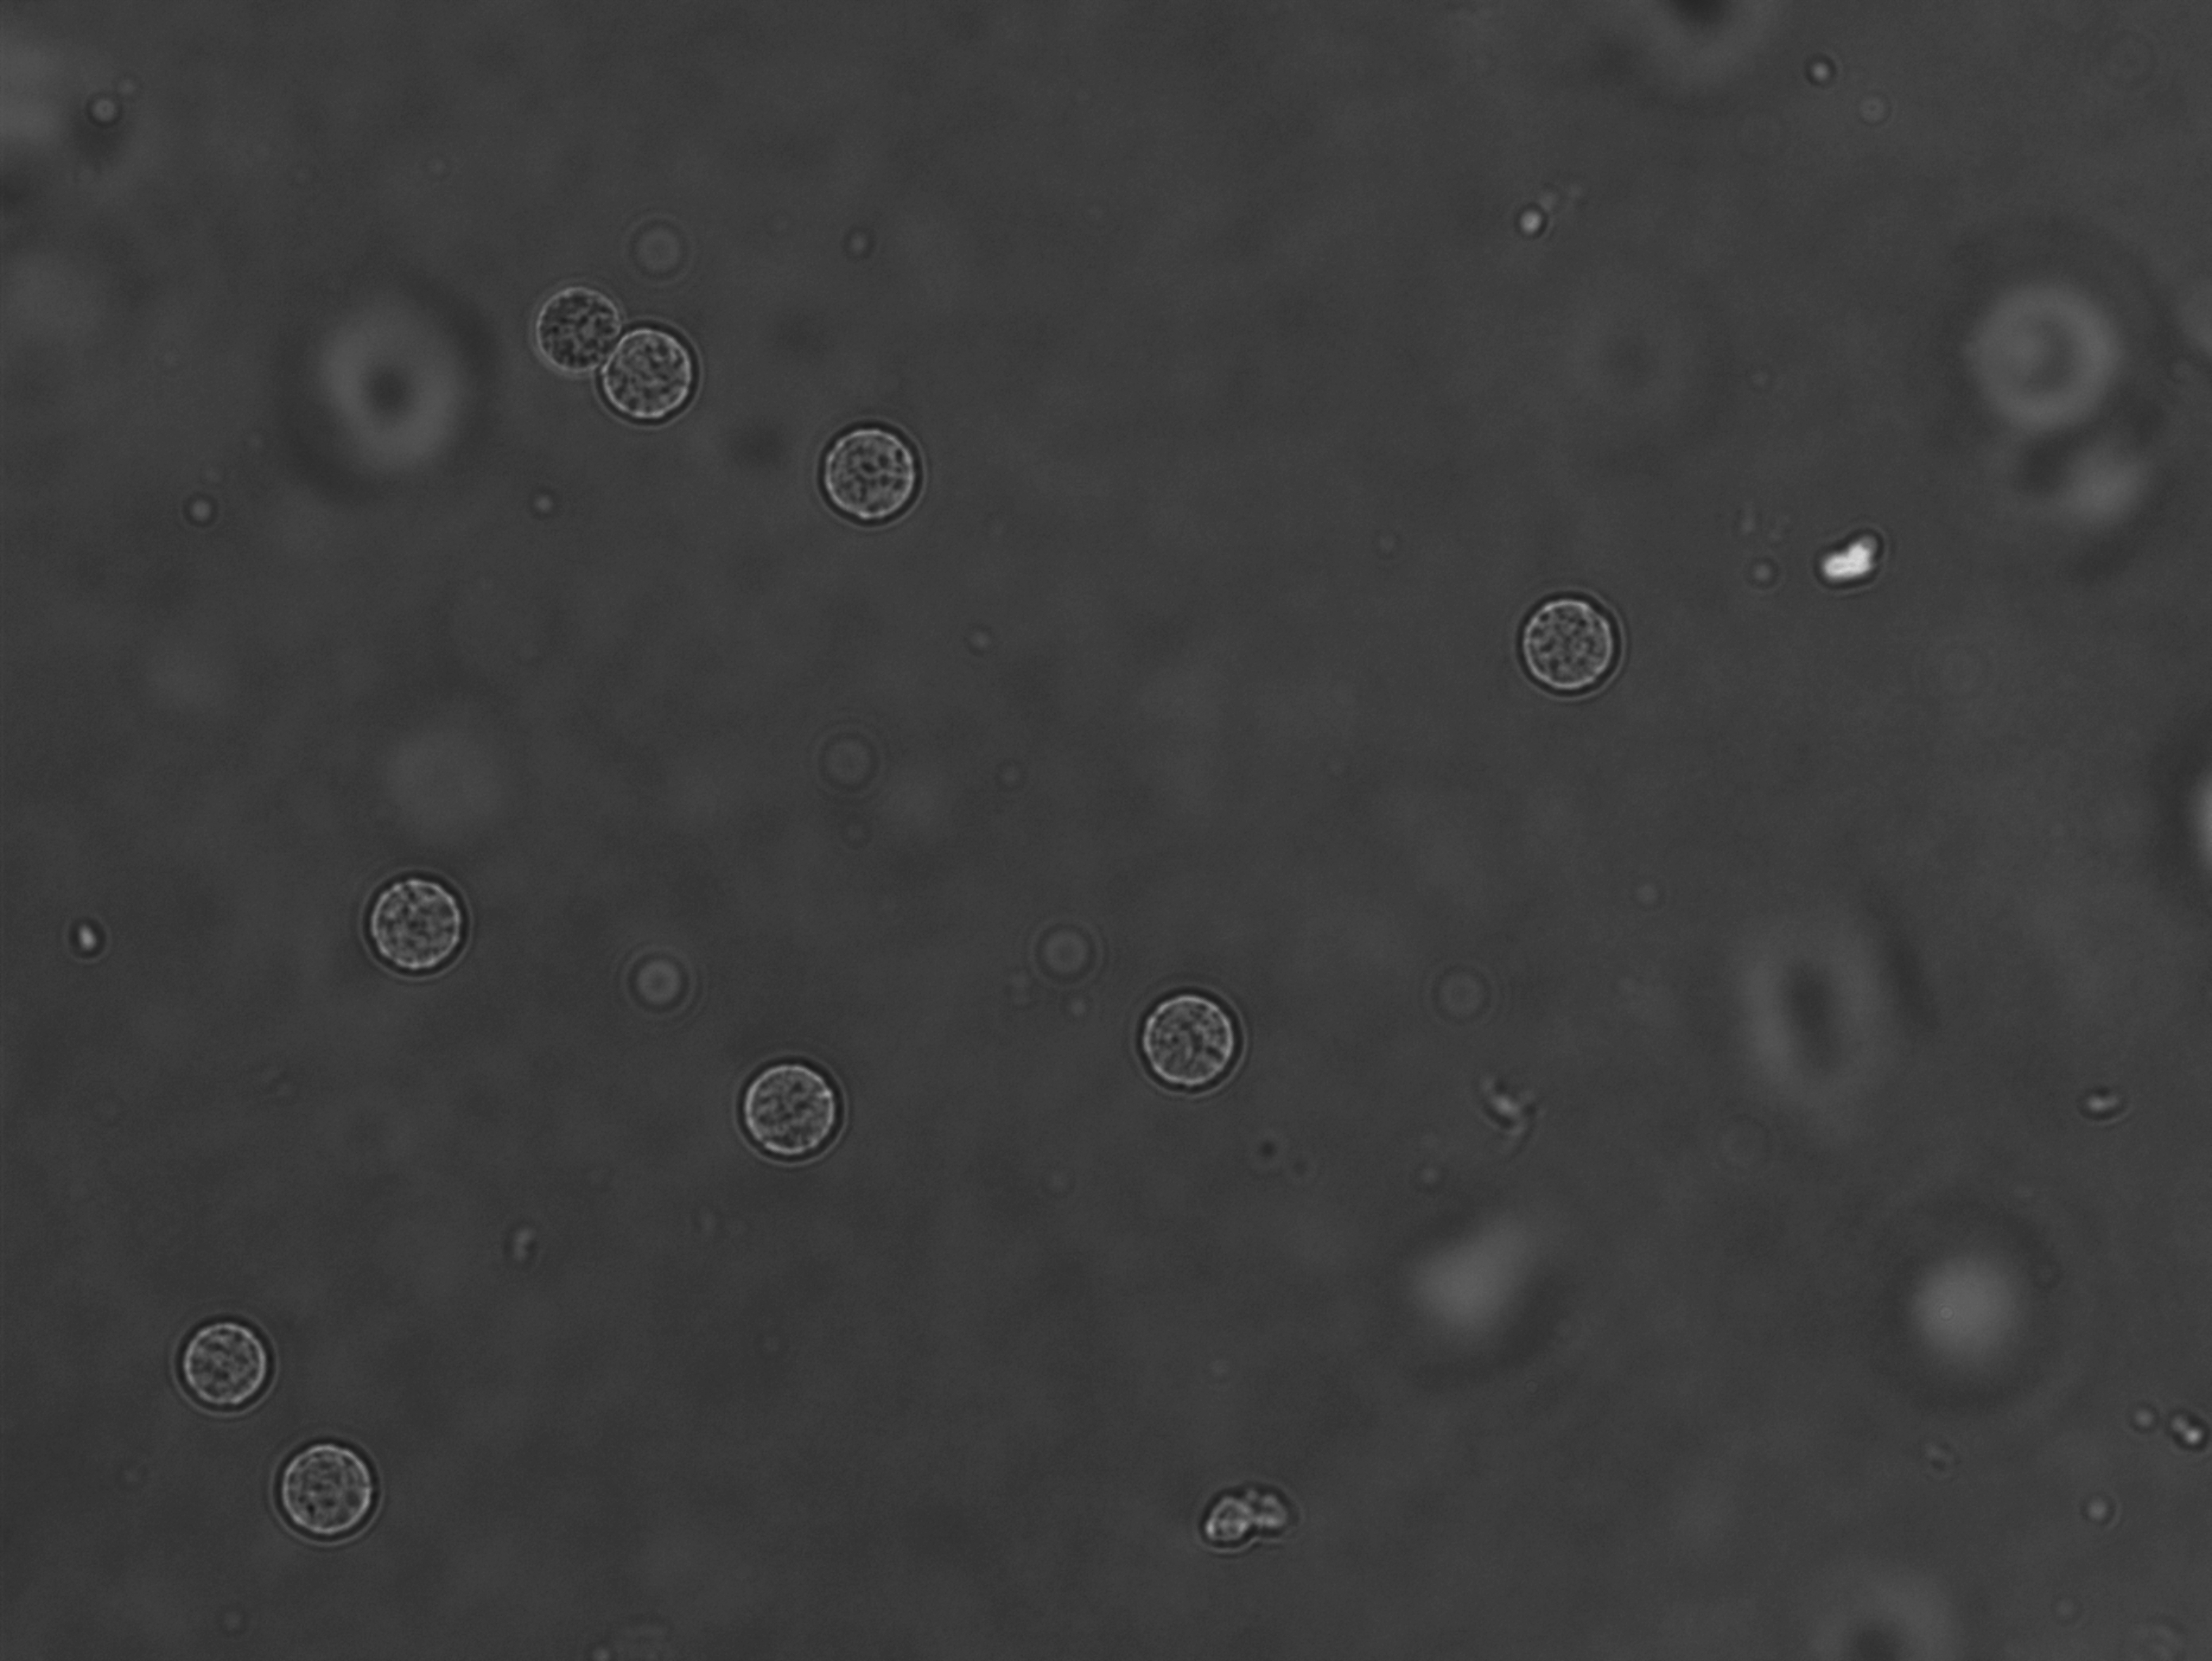depth:0: (265, 1413, 408, 1574), (720, 1042, 897, 1171), (795, 400, 956, 530), (152, 1293, 291, 1436), (351, 850, 481, 988), (1507, 581, 1635, 714), (1129, 977, 1251, 1111), (515, 274, 642, 394), (598, 321, 708, 441)
